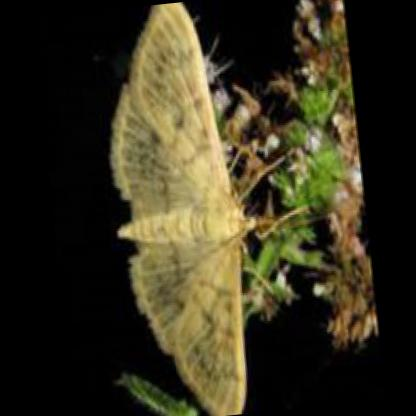Leaf Webber: (109, 1, 264, 415)
